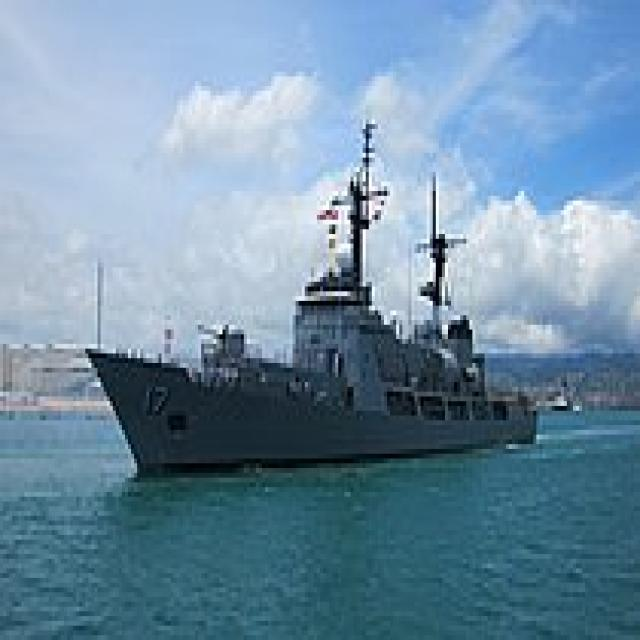Warship: (80, 115, 536, 478)
